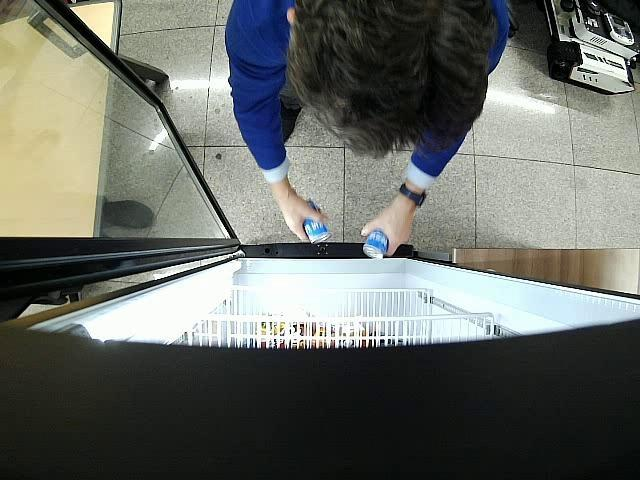15_letsbe: (304, 201, 332, 244), (362, 229, 389, 258)
